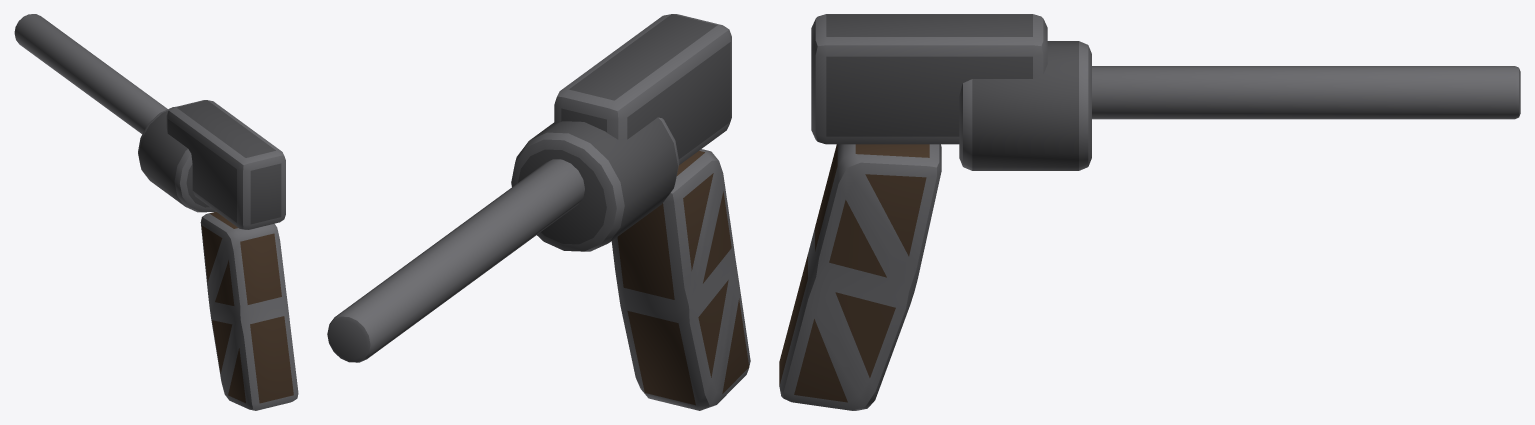
The model's file is webley.glb.
The picture shows the model from 3 angles, left to right: view 1: azimuth 30°, elevation 25°; view 2: azimuth 150°, elevation 25°; view 3: azimuth 270°, elevation 25°; orthographic projection. The views are drawn at different scales.
Parts seen in each view (by area): view 1: webley_LOD0; view 2: webley_LOD0; view 3: webley_LOD0.
Boxes of the visible parts, x1,y1,x2,y2 form: webley_LOD0: (14, 14, 298, 410); webley_LOD0: (327, 14, 750, 410); webley_LOD0: (779, 14, 1520, 410).
Bounding box in the file's own units: 0.044 × 0.1392 × 0.2508.
